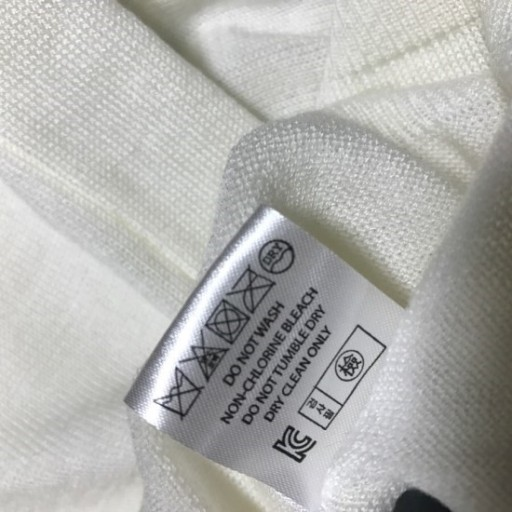KR_dry_clean: (250, 226, 307, 284)
KR_no_chlorine_bleach: (175, 326, 235, 392)
KR_no_iron: (219, 262, 281, 318)
KR_no_tumble_dry: (198, 290, 255, 353)
KR_no_wash: (146, 360, 211, 429)
